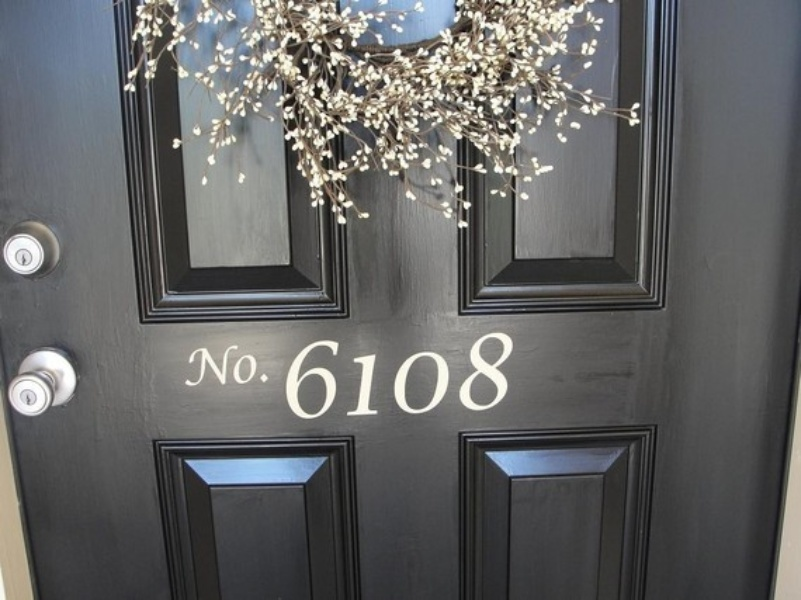text: (289, 331, 304, 421), (305, 331, 320, 421), (321, 331, 336, 421), (337, 331, 352, 421), (353, 331, 368, 421), (369, 331, 384, 421), (385, 331, 400, 421), (401, 331, 416, 421), (417, 331, 432, 421), (433, 331, 448, 421), (449, 331, 464, 421), (465, 331, 480, 421), (481, 331, 496, 421), (497, 331, 512, 421), (193, 339, 208, 388), (209, 339, 224, 388), (225, 339, 240, 388), (241, 339, 256, 388), (257, 339, 272, 388), (513, 331, 520, 421), (284, 331, 288, 421), (189, 339, 192, 388)
